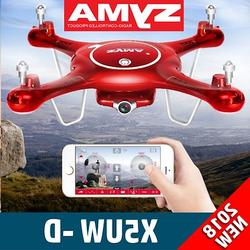drone: (5, 1, 247, 126)
